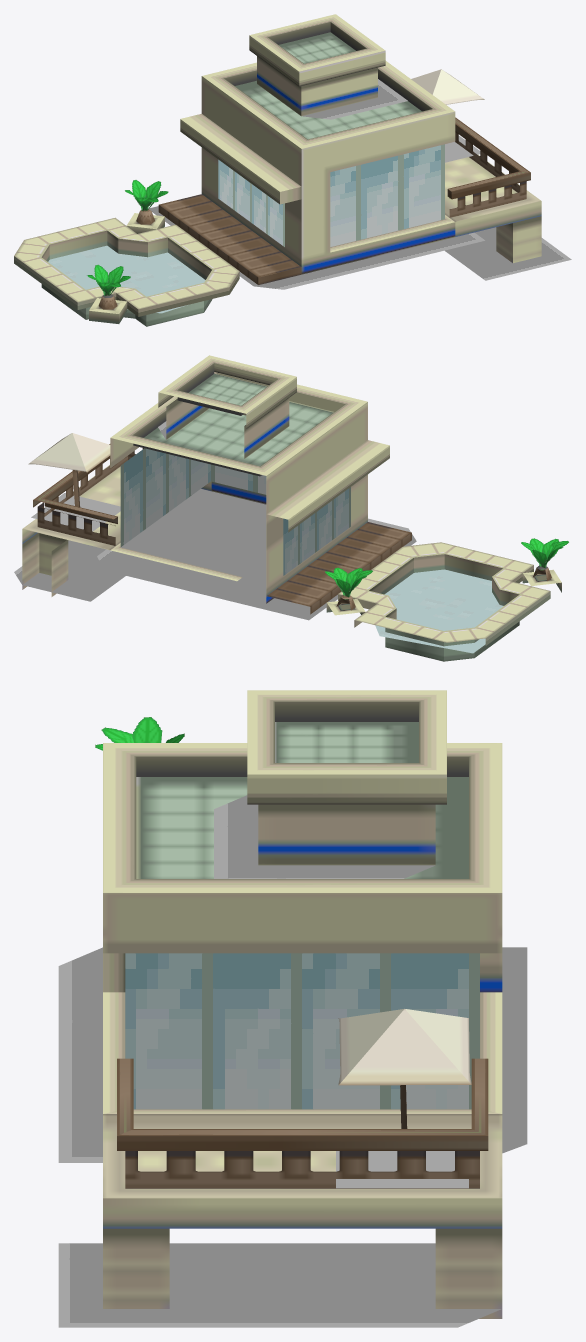
3 renders of one model, top to bottom at view 1: azimuth 30°, elevation 25°; view 2: azimuth 150°, elevation 25°; view 3: azimuth 270°, elevation 25°, orthographic. The views are drawn at different scales.
Parts seen in each view (by area): view 1: polygon1, polygon2, polygon5, polygon4, polygon3; view 2: polygon1, polygon4, polygon2, polygon5, polygon3; view 3: polygon1, polygon4, polygon5, polygon2.
Part boxes in pixels (x1,y1,x2,y2): polygon1: (14, 14, 541, 326); polygon2: (87, 69, 530, 309); polygon5: (218, 144, 444, 246); polygon4: (149, 79, 571, 289); polygon3: (48, 245, 232, 313); polygon1: (22, 355, 561, 661); polygon4: (14, 421, 416, 620); polygon2: (28, 433, 568, 614); polygon5: (120, 448, 350, 575); polygon3: (375, 569, 503, 653); polygon1: (103, 690, 502, 1318); polygon4: (58, 795, 527, 1327); polygon5: (125, 953, 479, 1109); polygon2: (95, 717, 488, 1188).
Bounding box in the file's own units: 6.02 × 2.66 × 2.64.
